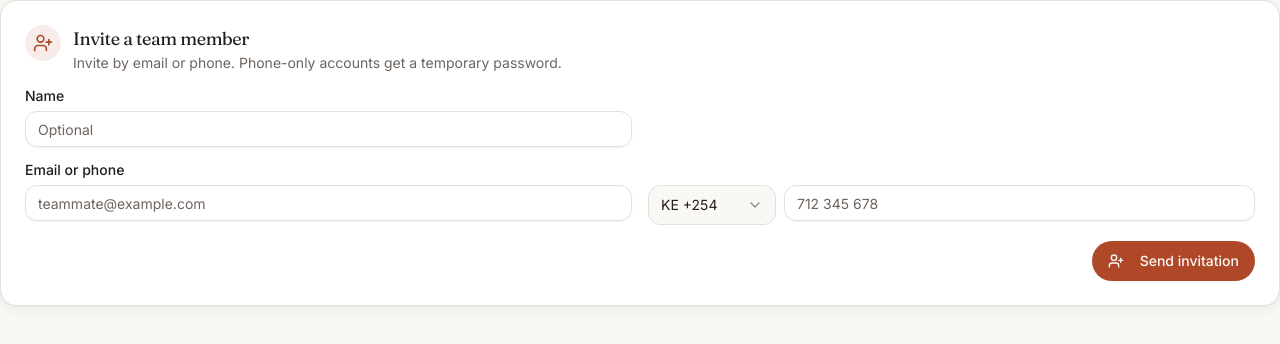
TeamInviteCard › requires at least one contact
The width and height of the screenshot is (1280, 344).
Click the button "Send invitation".
click(1173, 261)  # box [1092,241,1255,281]
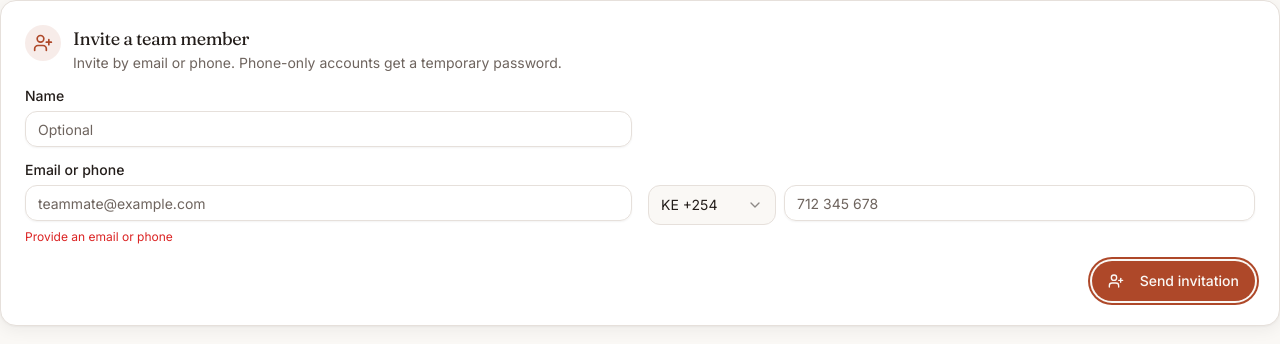
Now the text "Provide an email or phone" is shown, box [25,229,173,244]
